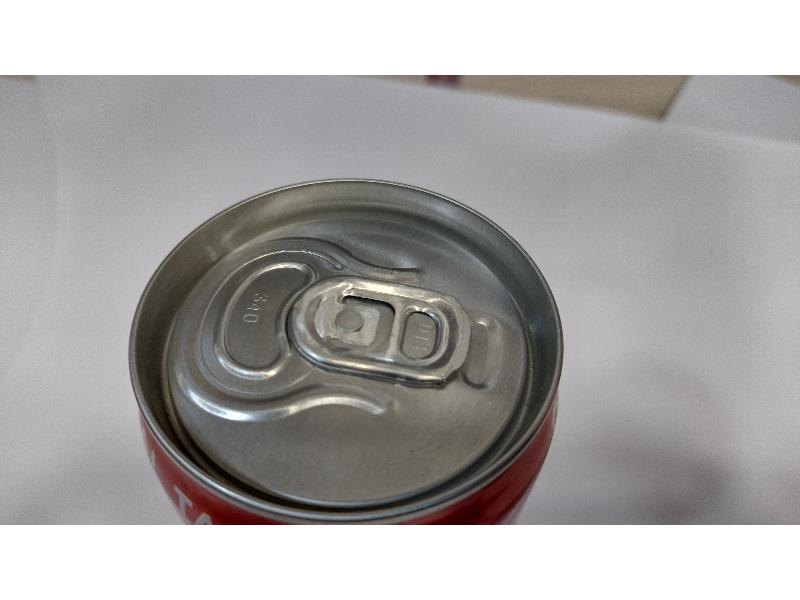can: (126, 172, 568, 524)
